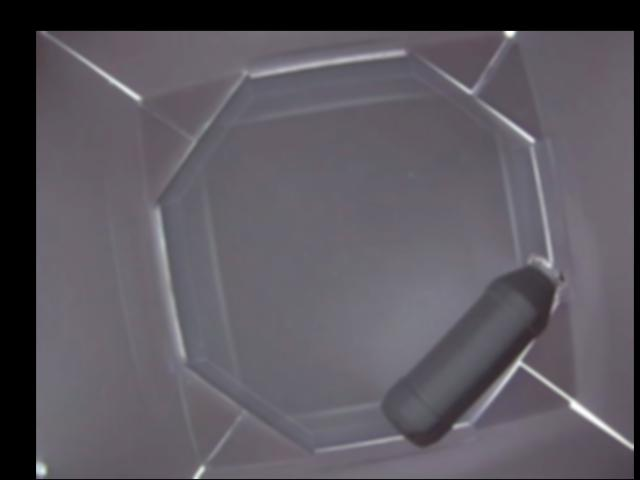Bottle: (382, 254, 568, 446)
